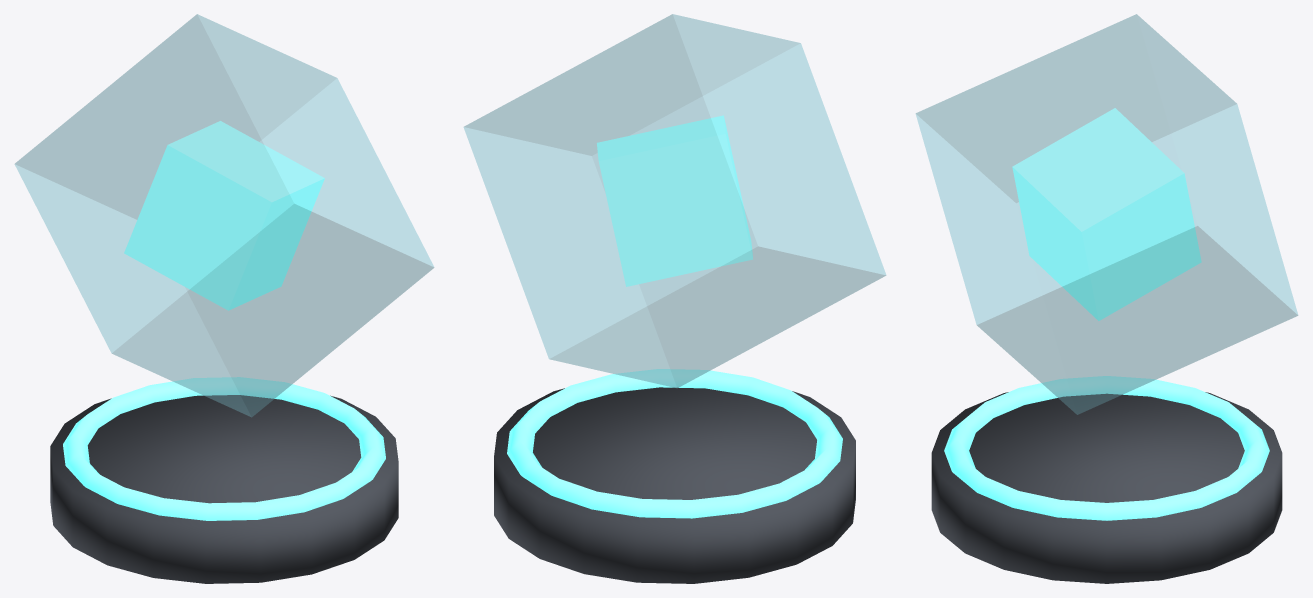
The model's file is holo_cube_rotating.glb.
The picture shows the model from 3 angles, left to right: view 1: azimuth 30°, elevation 25°; view 2: azimuth 150°, elevation 25°; view 3: azimuth 270°, elevation 25°; orthographic projection. The views are drawn at different scales.
Parts seen in each view (by area): view 1: GD_holo_cube_rotating__m2, GD_holo_cube_rotating__m0, GD_holo_cube_rotating__m1; view 2: GD_holo_cube_rotating__m2, GD_holo_cube_rotating__m0, GD_holo_cube_rotating__m1; view 3: GD_holo_cube_rotating__m2, GD_holo_cube_rotating__m0, GD_holo_cube_rotating__m1.
Boxes of the visible parts, x1=… form: GD_holo_cube_rotating__m2: x1=14, y1=14, x2=434, y2=417; GD_holo_cube_rotating__m0: x1=50, y1=395, x2=398, y2=583; GD_holo_cube_rotating__m1: x1=63, y1=121, x2=385, y2=520; GD_holo_cube_rotating__m2: x1=463, y1=14, x2=886, y2=388; GD_holo_cube_rotating__m0: x1=494, y1=387, x2=855, y2=583; GD_holo_cube_rotating__m1: x1=507, y1=115, x2=842, y2=518; GD_holo_cube_rotating__m2: x1=915, y1=14, x2=1298, y2=414; GD_holo_cube_rotating__m0: x1=931, y1=392, x2=1282, y2=583; GD_holo_cube_rotating__m1: x1=944, y1=108, x2=1269, y2=520.
Bounding box in the file's own units: 0.1461 × 0.2156 × 0.1528.
